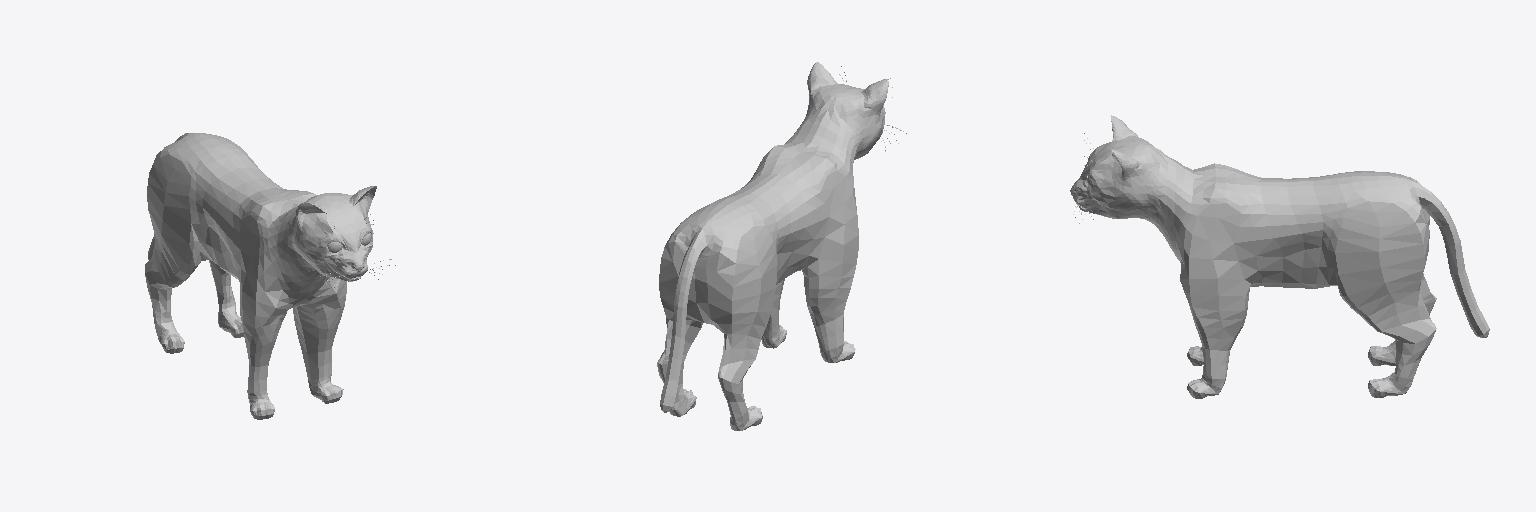
File: CAT_BLK.OBJ
3 renders of one model, left to right at view 1: azimuth 30°, elevation 25°; view 2: azimuth 150°, elevation 25°; view 3: azimuth 270°, elevation 25°, orthographic.
Parts seen in each view (by area): view 1: bcat_body; view 2: bcat_body; view 3: bcat_body.
Boxes of the visible parts, x1,y1,x2,y2 form: bcat_body: [145, 133, 376, 419]; bcat_body: [657, 62, 888, 430]; bcat_body: [1070, 115, 1489, 398].
Bounding box in the file's own units: 0.1281 × 0.3282 × 0.5052.